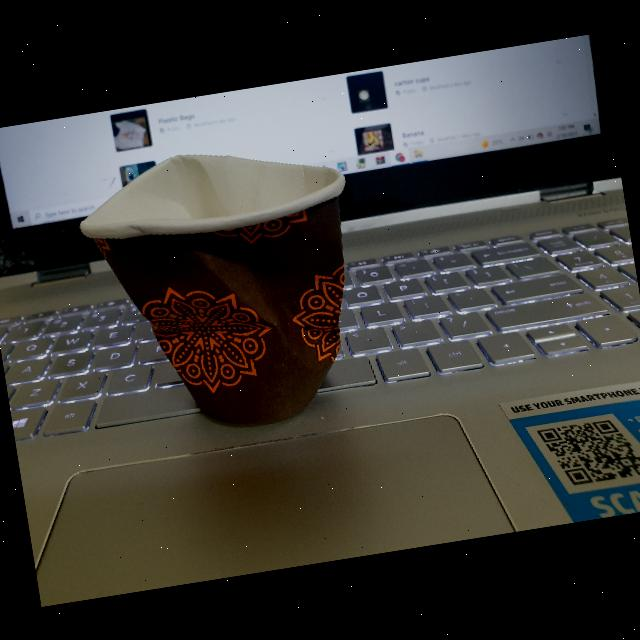trash: (59, 114, 388, 454)
